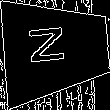N_E: (33, 27, 79, 72)
